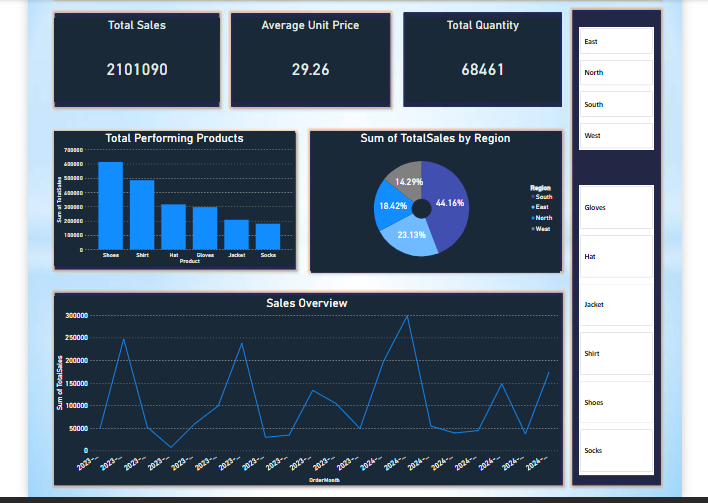

The page's visual inventory and layout, read from the dashboard file:
{"tool":"powerbi","page":{"name":"Page 1","canvas":[2180,1850],"ordinal":0},"visuals":[{"type":"card","title":"Total Sales","fields":{"Values":["Sum(sales project.TotalSales)"]},"box":[86.7,253.3,553.3,280],"z":2000},{"type":"card","title":"Total Quantity","fields":{"Values":["sales project.Total Quantity Sold"]},"box":[1260,253.3,513.3,280],"z":4000},{"type":"card","title":"Average Unit Price","fields":{"Values":["sales project.Average Unit Price"]},"box":[683.3,253.3,516.7,280],"z":5000},{"type":"lineChart","title":"Sales Overview","fields":{"Category":["sales project.OrderMonth"],"Y":["Sum(sales project.TotalSales)"]},"box":[86.7,1180,1686.7,630],"z":7000},{"type":"textbox","title":"SALES PERFORMANCE ANALYSIS FOR A RETAIL STORE","box":[85.2,55.6,2033.3,133.3],"z":8000},{"type":"advancedSlicerVisual","fields":{"Values":["sales project.Product"]},"box":[1836.7,810,250,966.7],"z":9000},{"type":"advancedSlicerVisual","fields":{"Values":["sales project.Region"]},"box":[1836.7,283.3,250,410],"z":10000},{"type":"donutChart","fields":{"Y":["Sum(sales project.TotalSales)"],"Category":["sales project.Region"]},"box":[943.3,630,830,473.3],"z":12000},{"type":"columnChart","title":"Total Performing Products","fields":{"Category":["sales project.Product"],"Y":["Sum(sales project.TotalSales)"]},"box":[86.7,630,803.3,450],"z":14000}]}

Visuals, with their boxes on the page's 2180x1850 design canvas (x1, y1, x2, y2). These are canvas units, not pixel positions in the 708x503 screenshot, which may show the page scaled, cropped or inside an application window:
"Total Sales" card: bbox(87, 253, 640, 533)
"Total Quantity" card: bbox(1260, 253, 1773, 533)
"Average Unit Price" card: bbox(683, 253, 1200, 533)
"Sales Overview" lineChart: bbox(87, 1180, 1773, 1810)
"SALES PERFORMANCE ANALYSIS FOR A RETAIL STORE" textbox: bbox(85, 56, 2118, 189)
advancedSlicerVisual - sales project.Product: bbox(1837, 810, 2087, 1777)
advancedSlicerVisual - sales project.Region: bbox(1837, 283, 2087, 693)
donutChart - Sum(sales project.TotalSales) x sales project.Region: bbox(943, 630, 1773, 1103)
"Total Performing Products" columnChart: bbox(87, 630, 890, 1080)
